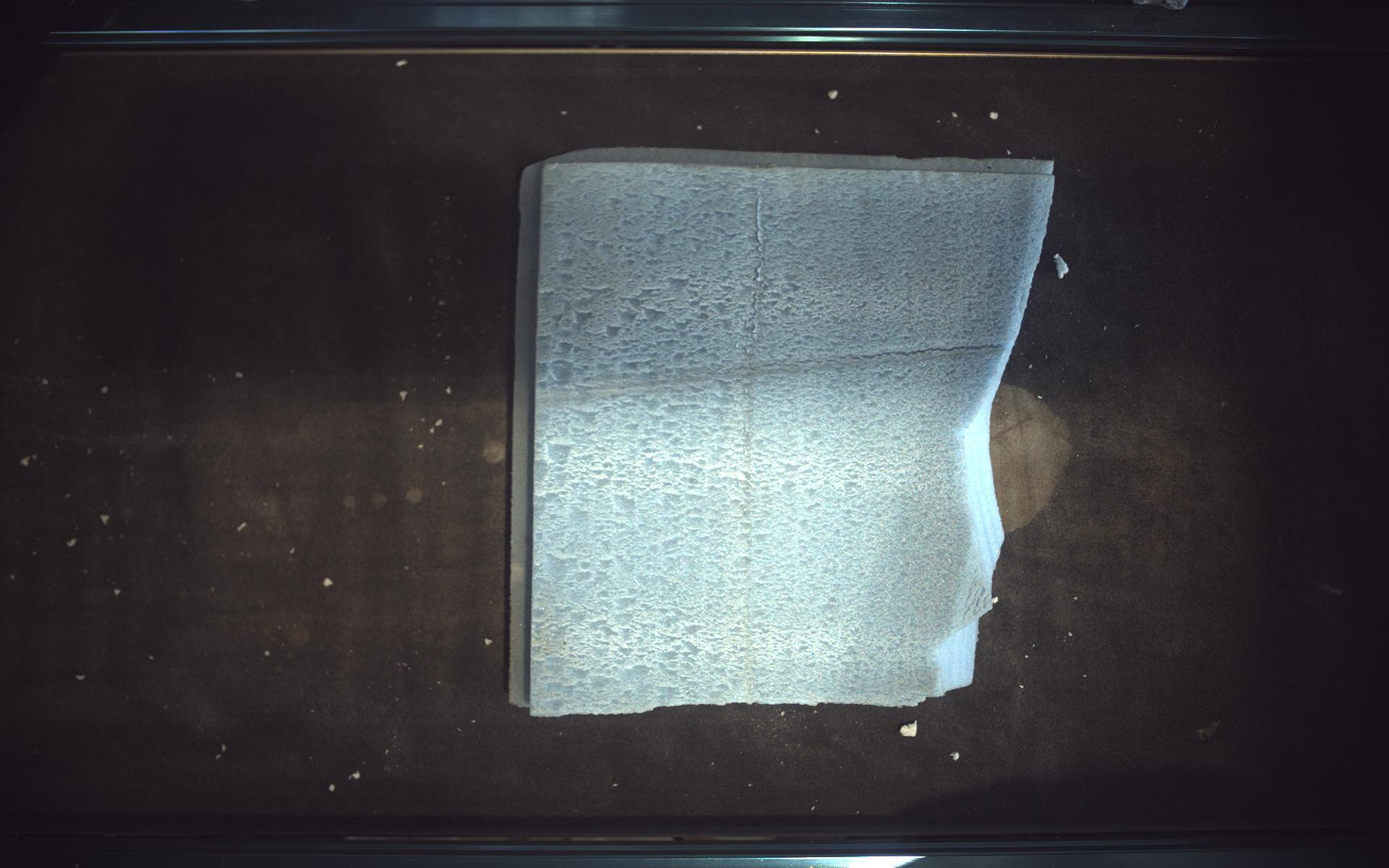foam: (510, 148, 1056, 718)
